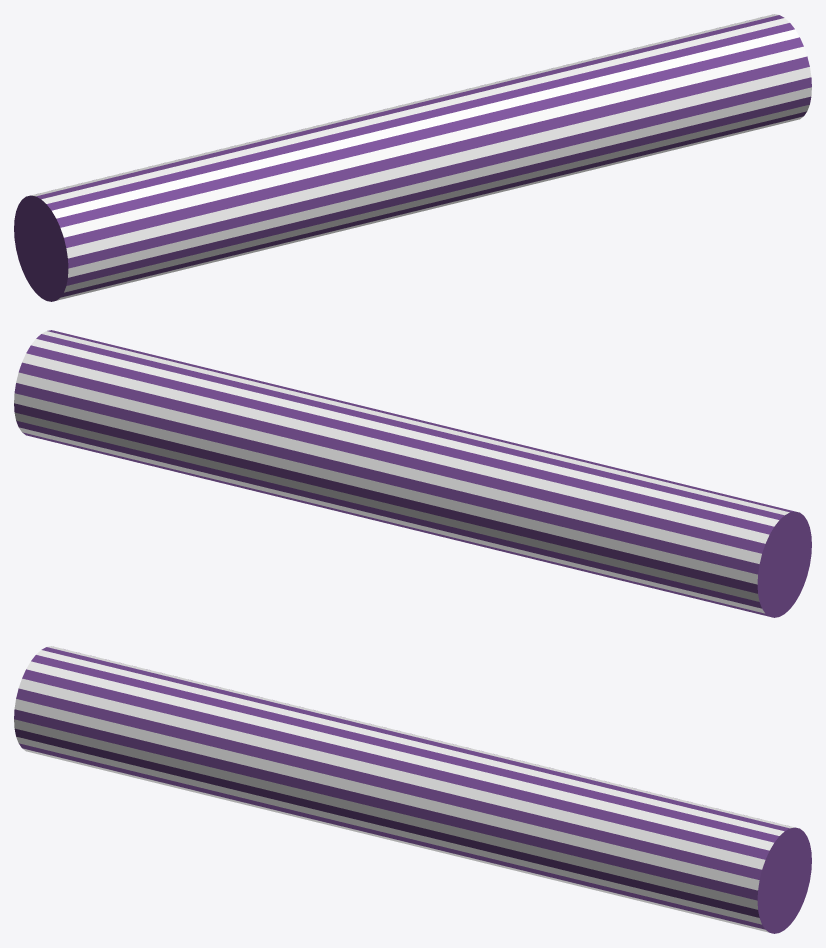
Rendered from CilindroCamino.fbx.
The picture shows the model from 3 angles, top to bottom: view 1: azimuth 30°, elevation 25°; view 2: azimuth 150°, elevation 25°; view 3: azimuth 330°, elevation 25°; orthographic projection.
Parts seen in each view (by area): view 1: Cylinder; view 2: Cylinder; view 3: Cylinder.
Boxes of the visible parts, x1,y1,x2,y2 form: Cylinder: [14, 14, 811, 301]; Cylinder: [14, 330, 811, 617]; Cylinder: [14, 646, 811, 933].
Size of the model in its own units: 1357 by 172 by 172.
1 material, 1 textured.
